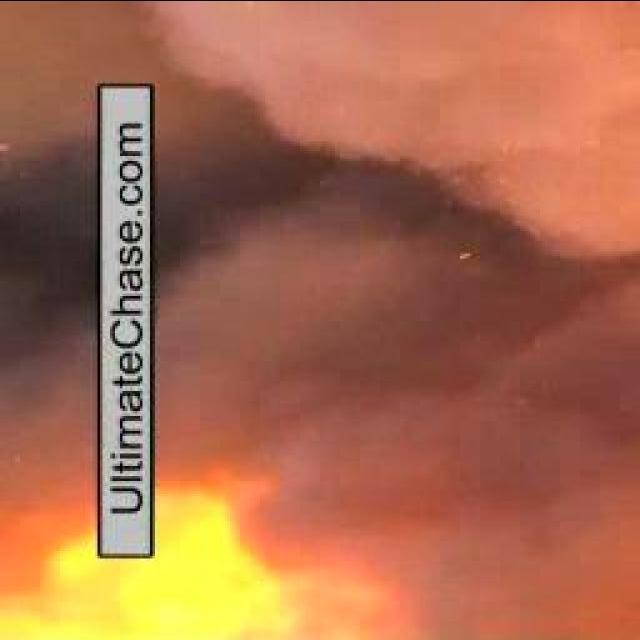Fire: (0, 460, 404, 640)
